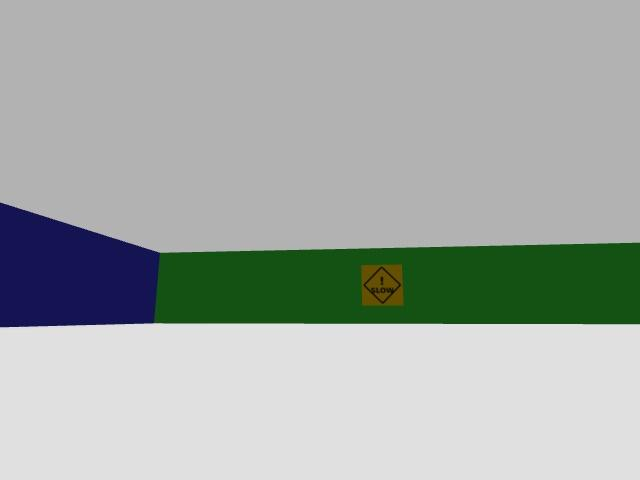slow: (362, 265, 402, 305)
